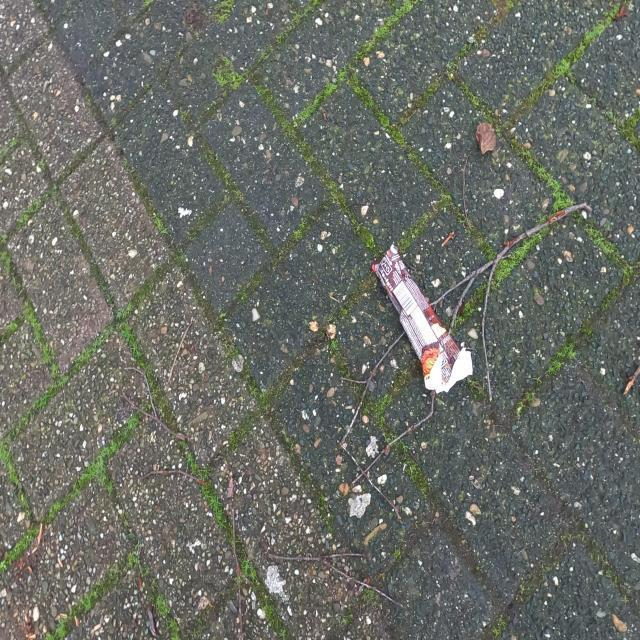Plastic: (371, 241, 474, 394)
